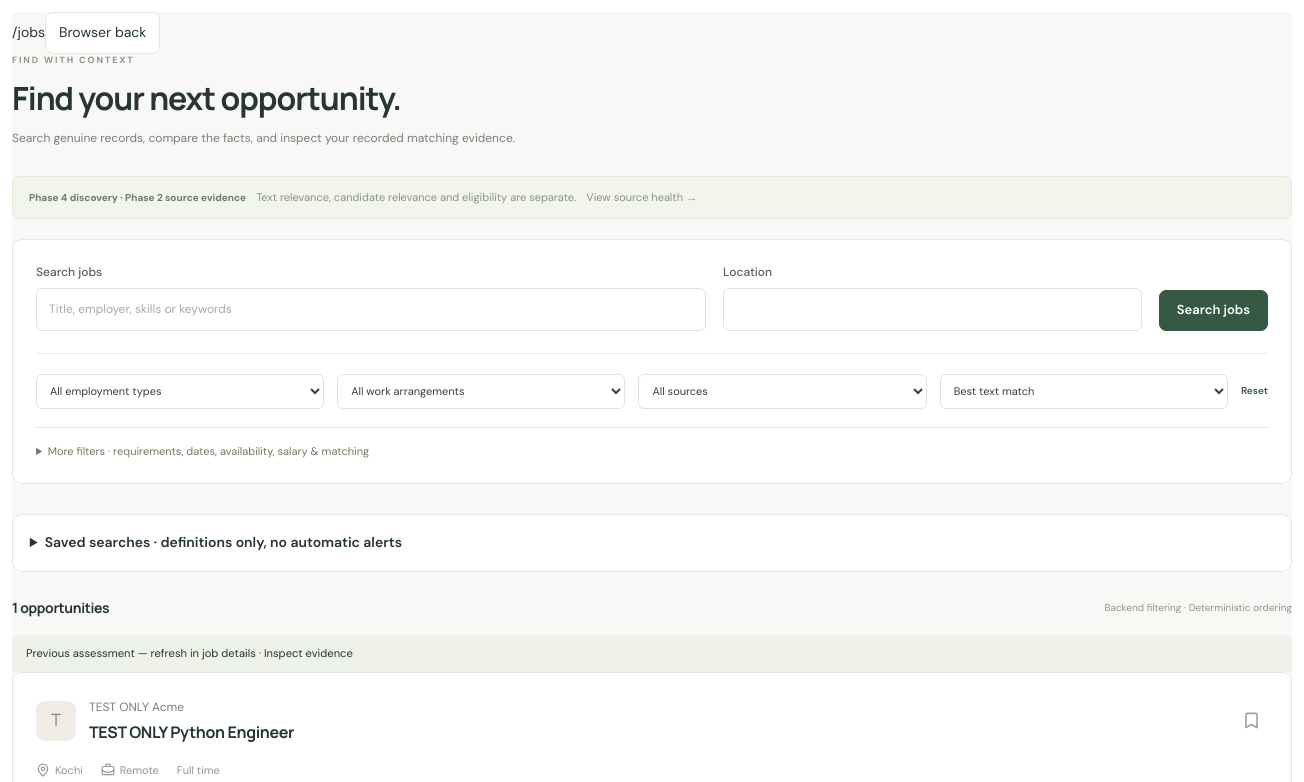
Phase 4 discovery with explicitly mocked HTTP › debounces grounded suggestions and labels stale assessments
In the field labelled "Search jobs": (371, 310) [36,288,706,331], type "Pyth"
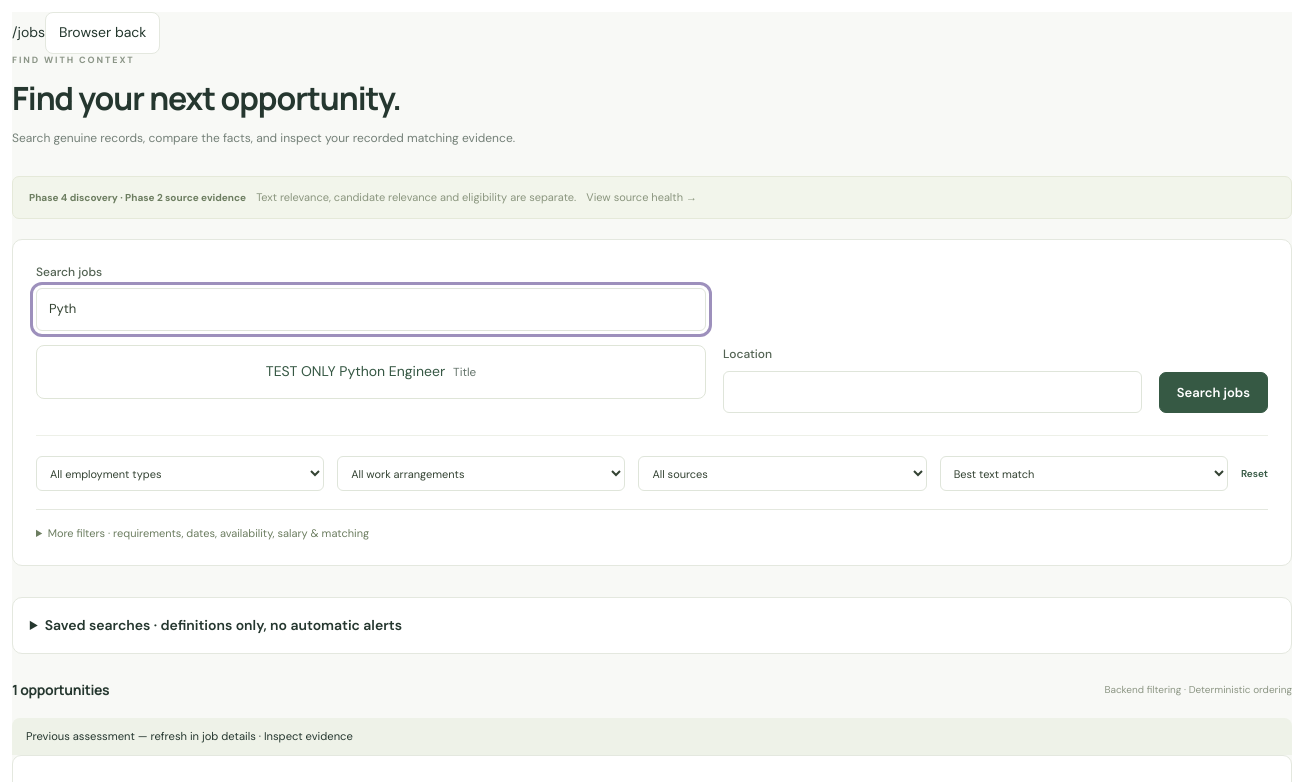
Click the button "TEST ONLY Python Engineer Title": (371, 372) [44,353,698,391]
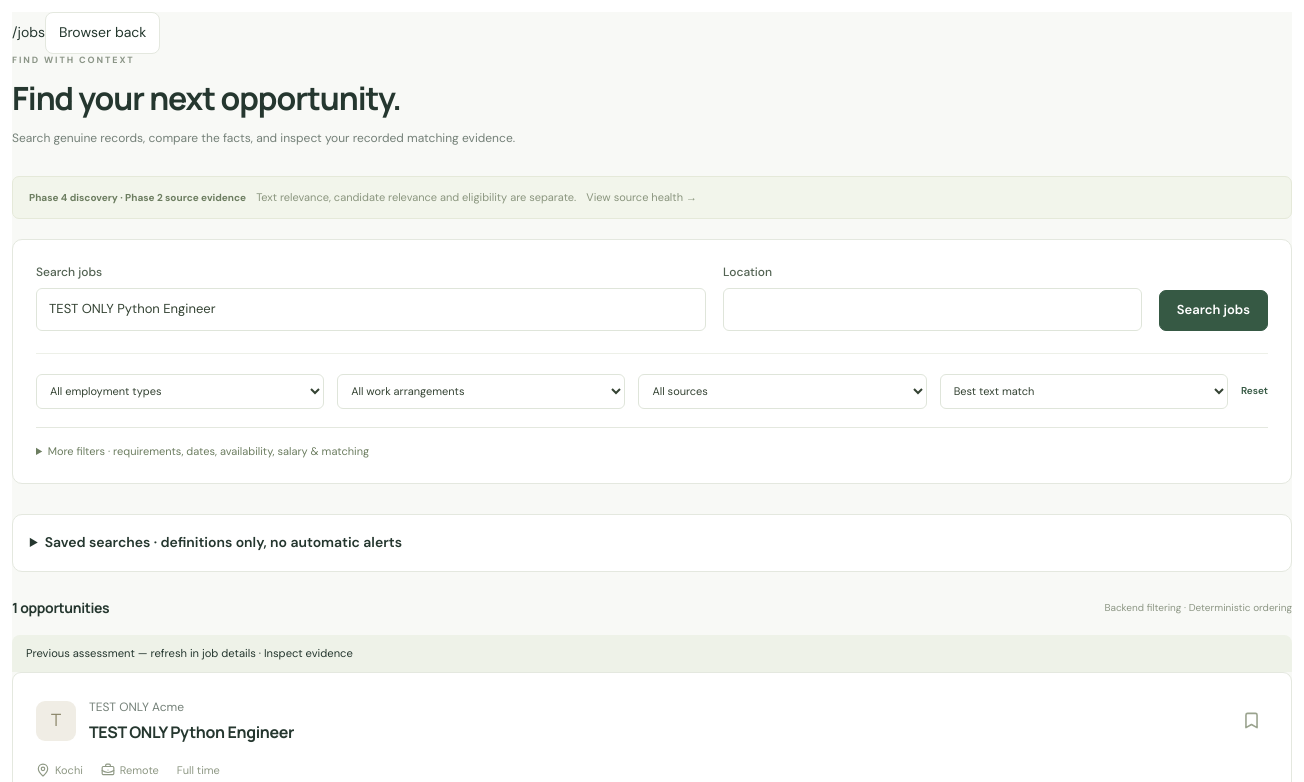
Expected: the text "Previous assessment — refresh" is shown, [26,646,256,660]
Now the field labelled "Search jobs" holds "TEST ONLY Python Engineer", box [36,288,706,331]
